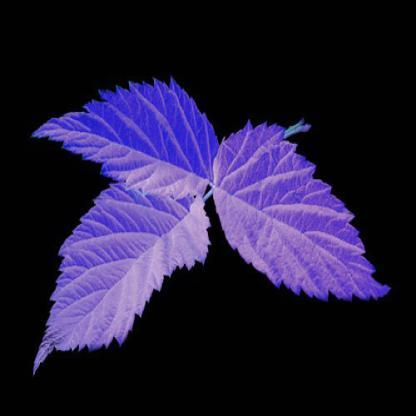Raspberry leaf: (24, 176, 217, 378), (213, 118, 396, 308), (30, 76, 217, 194)
